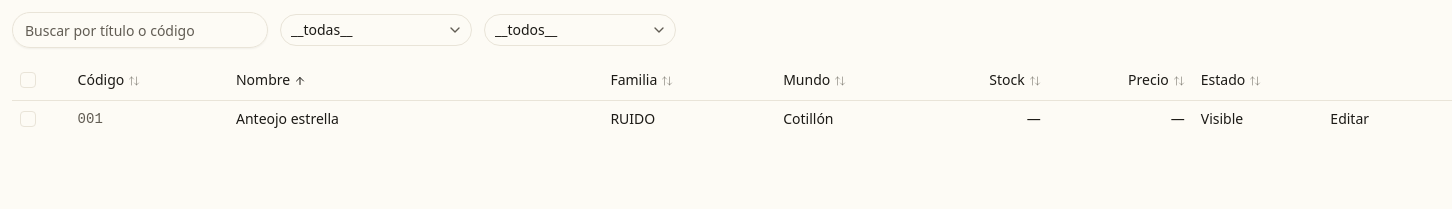
Test case: PublicadoTab — lote: eliminar › confirmar borra las fotos de Storage, el código exclusivo de catalogo_precios y el producto
Check: the row "001 Anteojo estrella RUIDO Cotillón — — Visible Editar" is shown, box [12,100,1451,136]
Click the checkbox named "Seleccionar Anteojo estrella": (28, 118) [20,110,36,126]
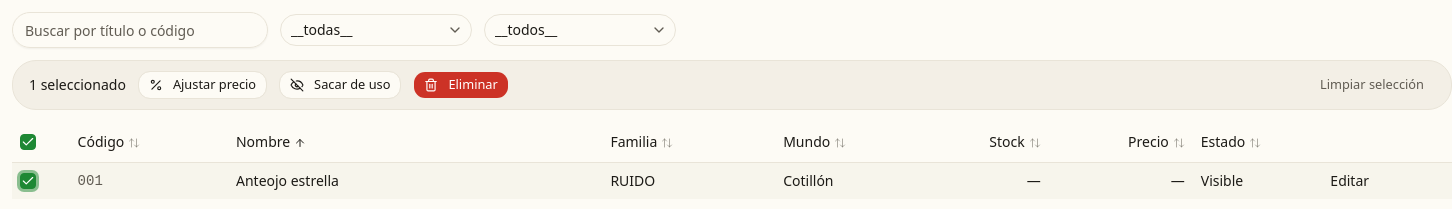
Click the button "Eliminar": (461, 85) [414,71,509,99]
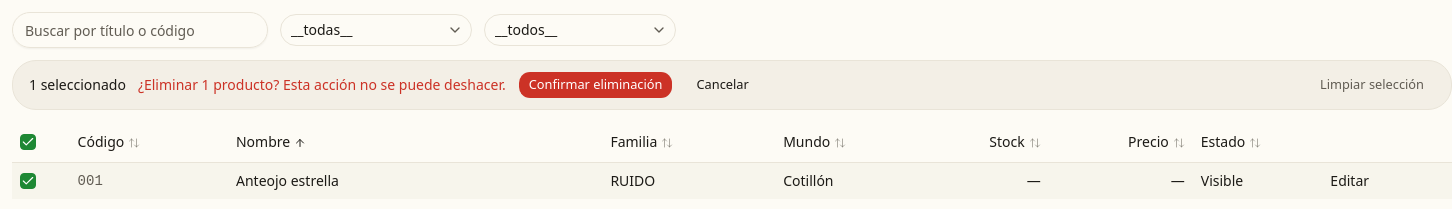
Click the button "Confirmar eliminación": (596, 85) [518,71,674,99]
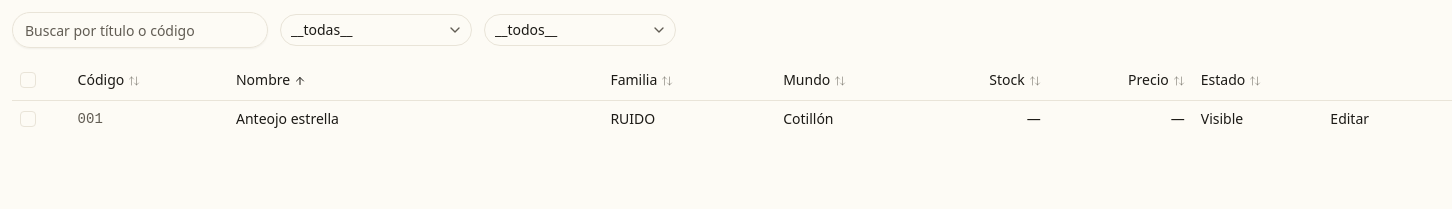
Check: the text "seleccionado" is gone
